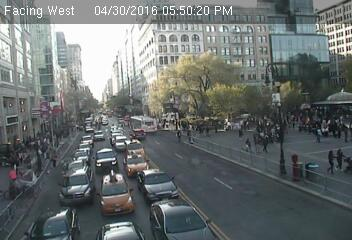neg: (105, 167, 117, 183), (53, 41, 64, 56), (294, 52, 305, 66), (22, 170, 32, 183)
pos: (321, 147, 341, 173), (333, 146, 349, 168), (258, 135, 272, 154), (183, 127, 195, 142), (174, 128, 184, 141)
